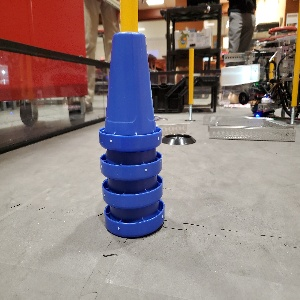Blue_4: (97, 30, 165, 238)
